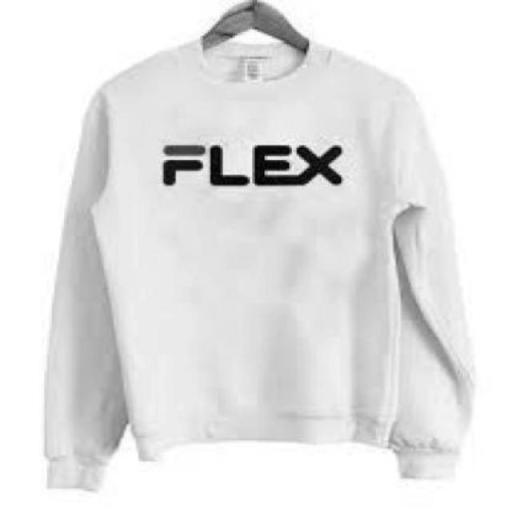Fila: (151, 134, 369, 200)
